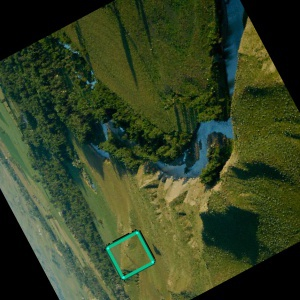square: (103, 229, 155, 280)
